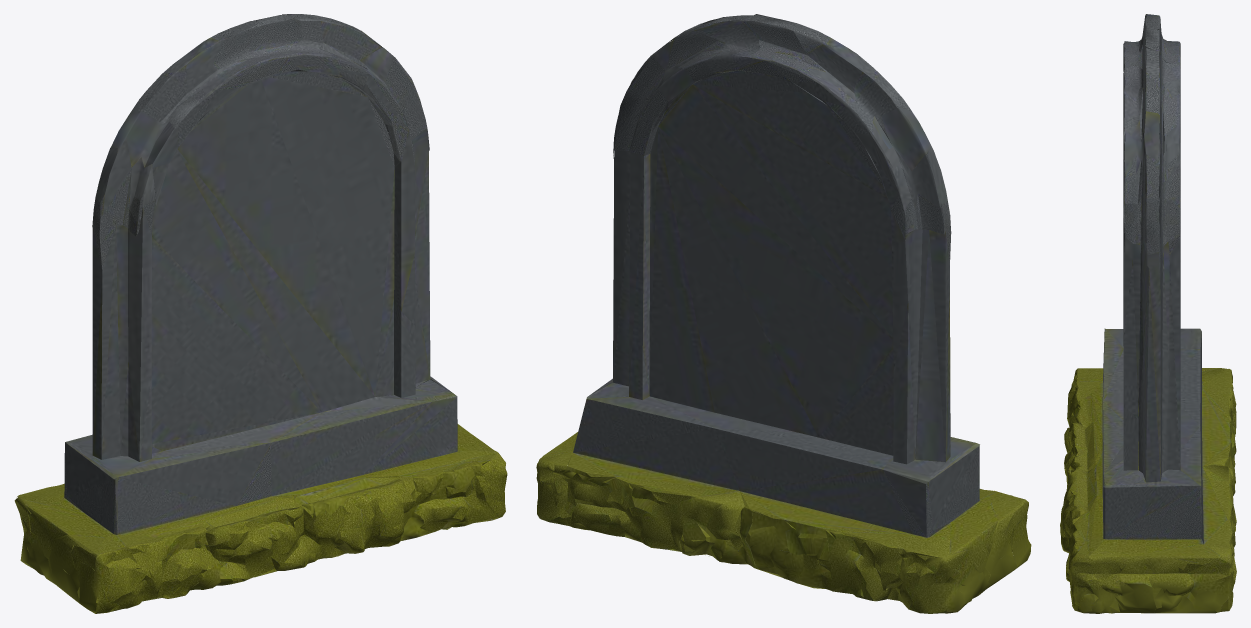
File: grave_d.glb
The picture shows the model from 3 angles, left to right: view 1: azimuth 30°, elevation 25°; view 2: azimuth 150°, elevation 25°; view 3: azimuth 270°, elevation 25°; orthographic projection. The views are drawn at different scales.
Parts seen in each view (by area): view 1: Mesh_0; view 2: Mesh_0; view 3: Mesh_0.
Boxes of the visible parts, <box> form: Mesh_0: <box>14,14,507,613</box>; Mesh_0: <box>536,14,1031,613</box>; Mesh_0: <box>1060,14,1236,613</box>.
Size of the model in its own units: 0.8534 by 1 by 0.3285.
1 material, 1 textured.
